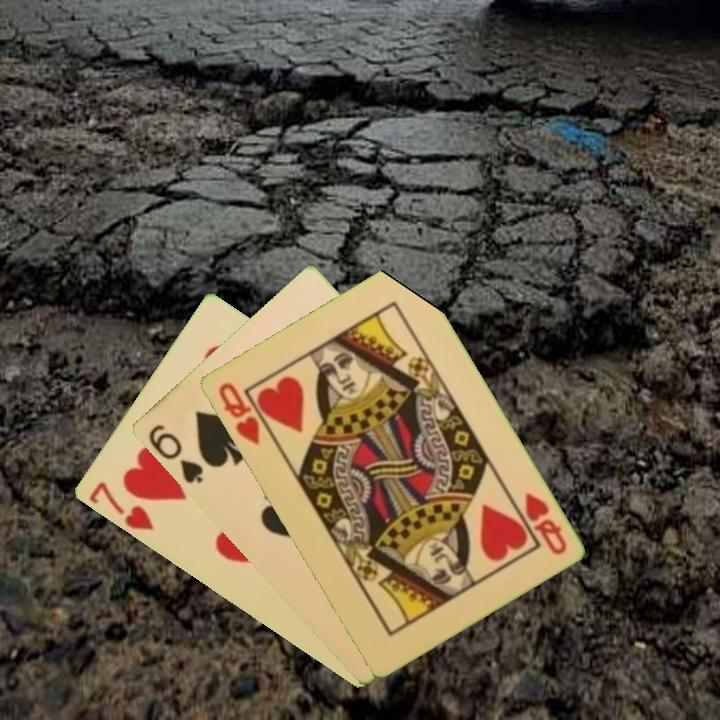6s: (144, 420, 206, 487)
7h: (84, 478, 156, 534)
Qh: (214, 378, 275, 448), (520, 488, 570, 558)
